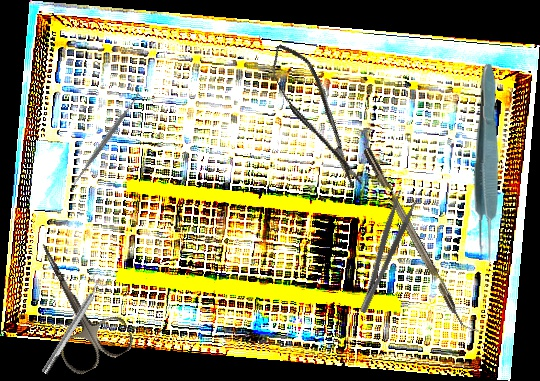Chopper: (362, 142, 480, 340)
Dressing Forceps: (346, 189, 421, 315)
Fixation Ring: (35, 271, 112, 378)
Iris Scissors: (12, 226, 138, 380)
Micro Scissor: (262, 35, 371, 198)
Spatula Surgical: (67, 88, 146, 189)
Tissue Forceps: (471, 63, 502, 263)
